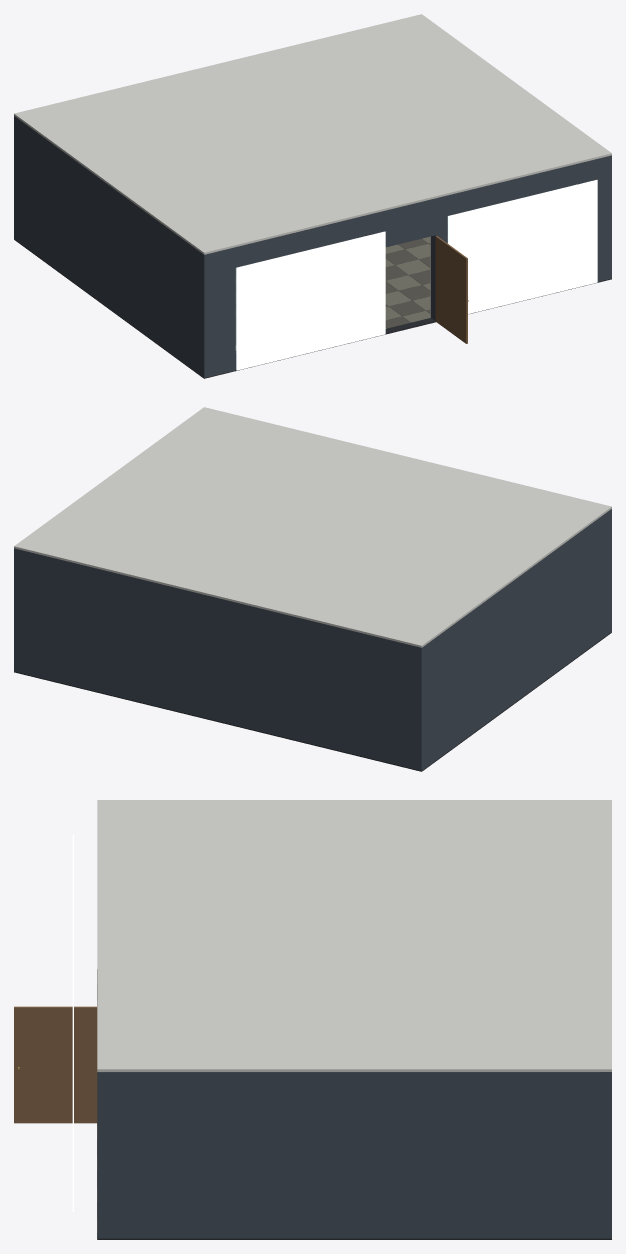
The model's file is store.glb.
3 views of the same model, one above another, from view 1: azimuth 30°, elevation 25°; view 2: azimuth 150°, elevation 25°; view 3: azimuth 270°, elevation 25° (orthographic). The views are drawn at different scales.
Parts seen in each view (by area): view 1: store_room; view 2: store_room; view 3: store_room.
Boxes of the visible parts, x1,y1,x2,y2 form: store_room: (14, 14, 611, 378); store_room: (14, 407, 611, 771); store_room: (14, 800, 611, 1239).
Size of the model in its own units: 10.4 by 3.07 by 9.76.
